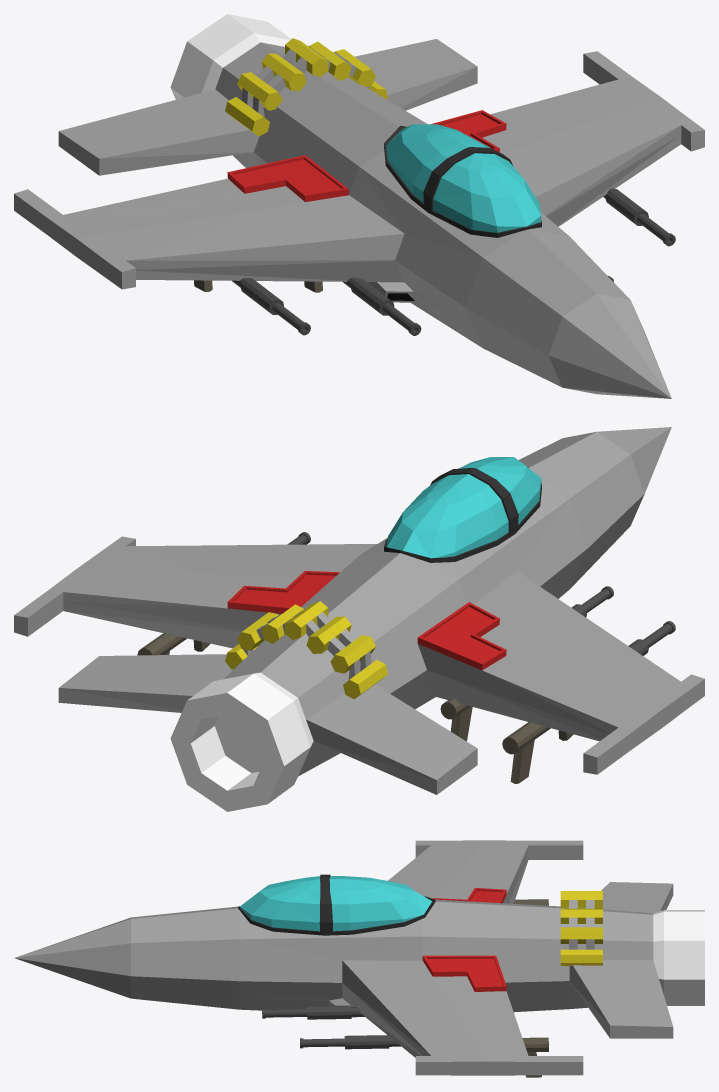
The model's file is PlayerMachine1.1.fbx.
3 renders of one model, top to bottom at view 1: azimuth 30°, elevation 25°; view 2: azimuth 150°, elevation 25°; view 3: azimuth 270°, elevation 25°, orthographic. The views are drawn at different scales.
Parts seen in each view (by area): view 1: playerMachine_ob; view 2: playerMachine_ob; view 3: playerMachine_ob.
Part boxes in pixels (<box>): playerMachine_ob: <box>14,14,704,398</box>; playerMachine_ob: <box>14,427,704,811</box>; playerMachine_ob: <box>14,840,704,1077</box>.
Bounding box in the file's own units: 1427 × 412 × 1884.
